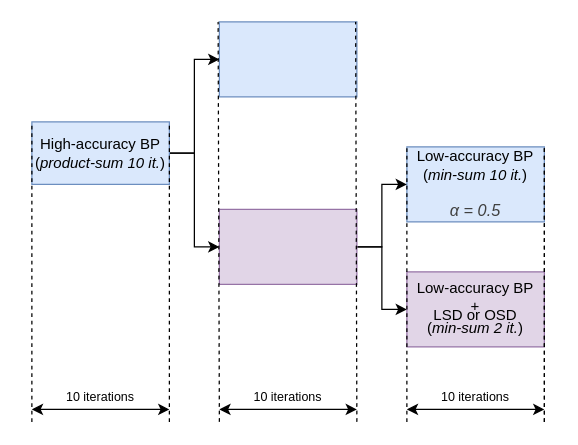
Some shapes in this 578 by 445 pixel diagram are drawn without their labels. Here are the shapes that lost their labels. From the top down, the box of each, then its label:
(218, 21, 357, 97): Low-accuracy BP ( min-sum 10 it. ) α = 0.9
(218, 208, 357, 284): Low-accuracy BP ( min-sum 10 it. ) α = 0.75
